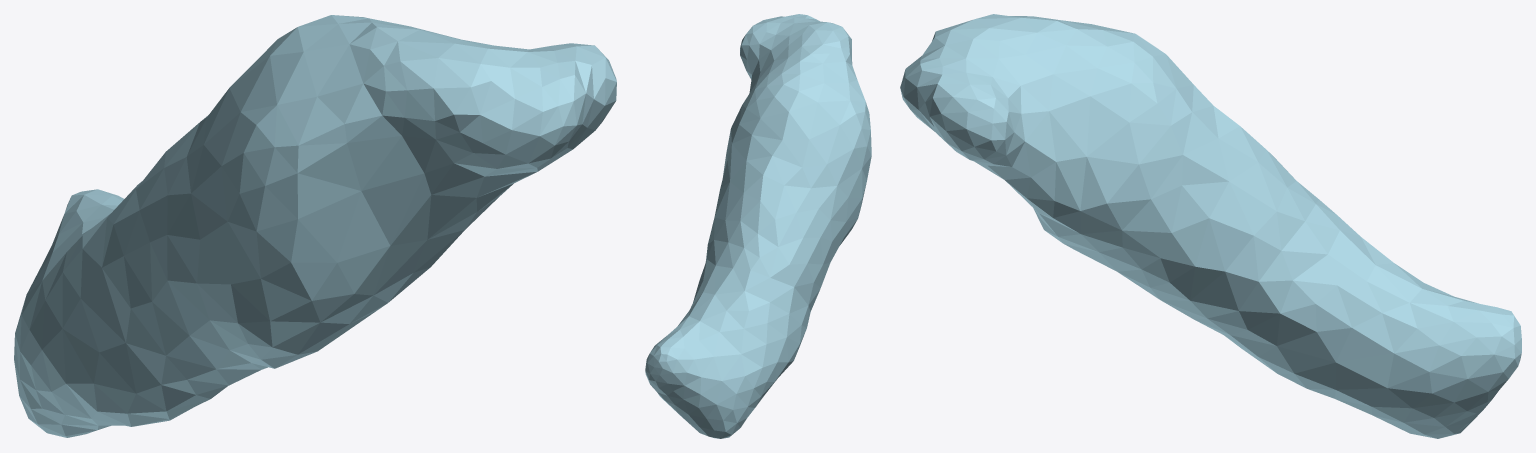
The model's file is leftsurretumor.obj.
3 renders of one model, left to right at view 1: azimuth 30°, elevation 25°; view 2: azimuth 150°, elevation 25°; view 3: azimuth 270°, elevation 25°, orthographic. The views are drawn at different scales.
Parts seen in each view (by area): view 1: grp1; view 2: grp1; view 3: grp1.
Part boxes in pixels (left/top/right/bottom): grp1: left=14, top=15, right=616, bottom=437; grp1: left=645, top=14, right=871, bottom=438; grp1: left=900, top=14, right=1521, bottom=438.
Bounding box in the file's own units: 15.96 × 27.64 × 35.08.
